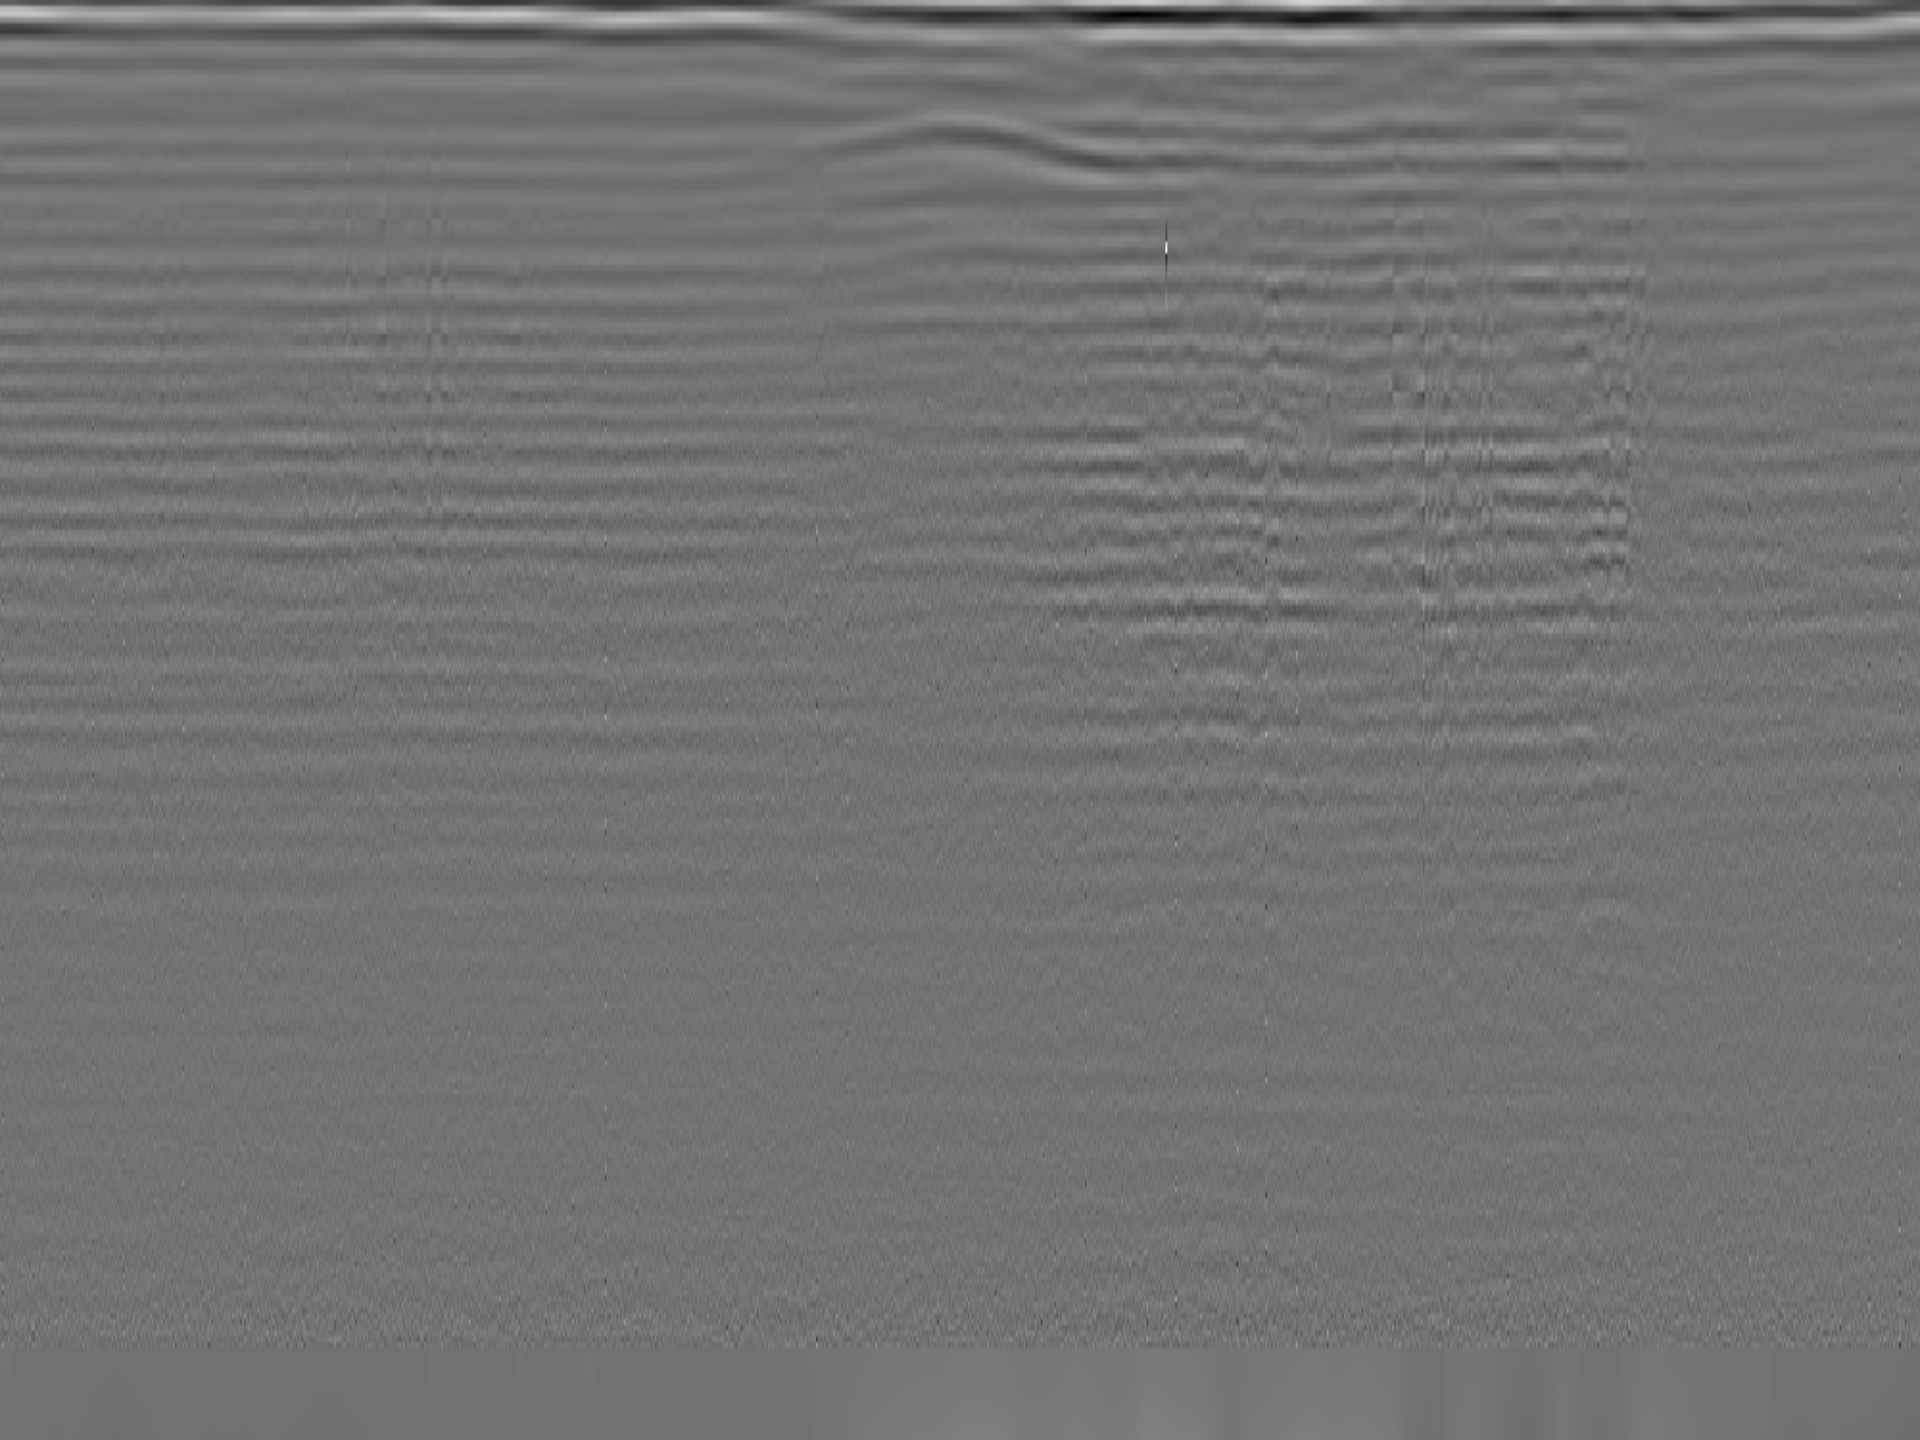Tunnel: (785, 109, 1193, 178)
